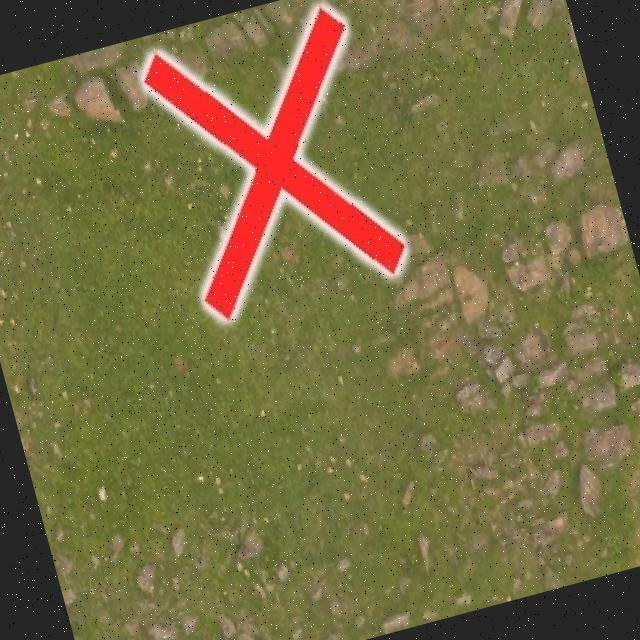x_marker: (136, 2, 408, 321)
